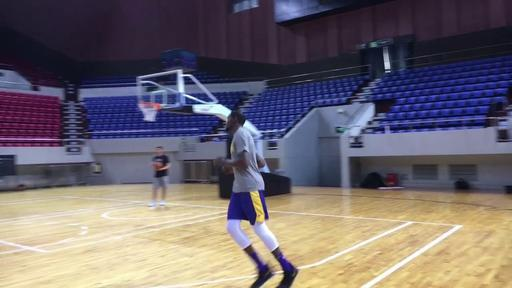ball: (153, 161, 163, 170)
human: (220, 111, 298, 288), (148, 146, 171, 207)
rim: (138, 102, 162, 122)
